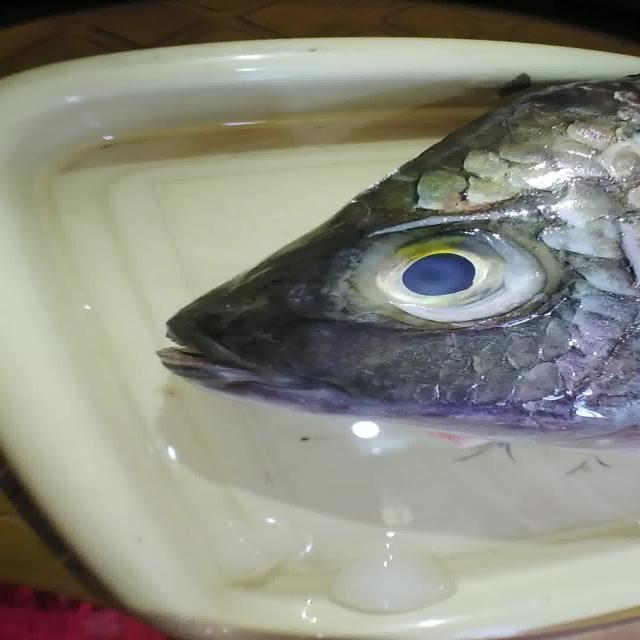Fresh: (334, 231, 585, 351)
